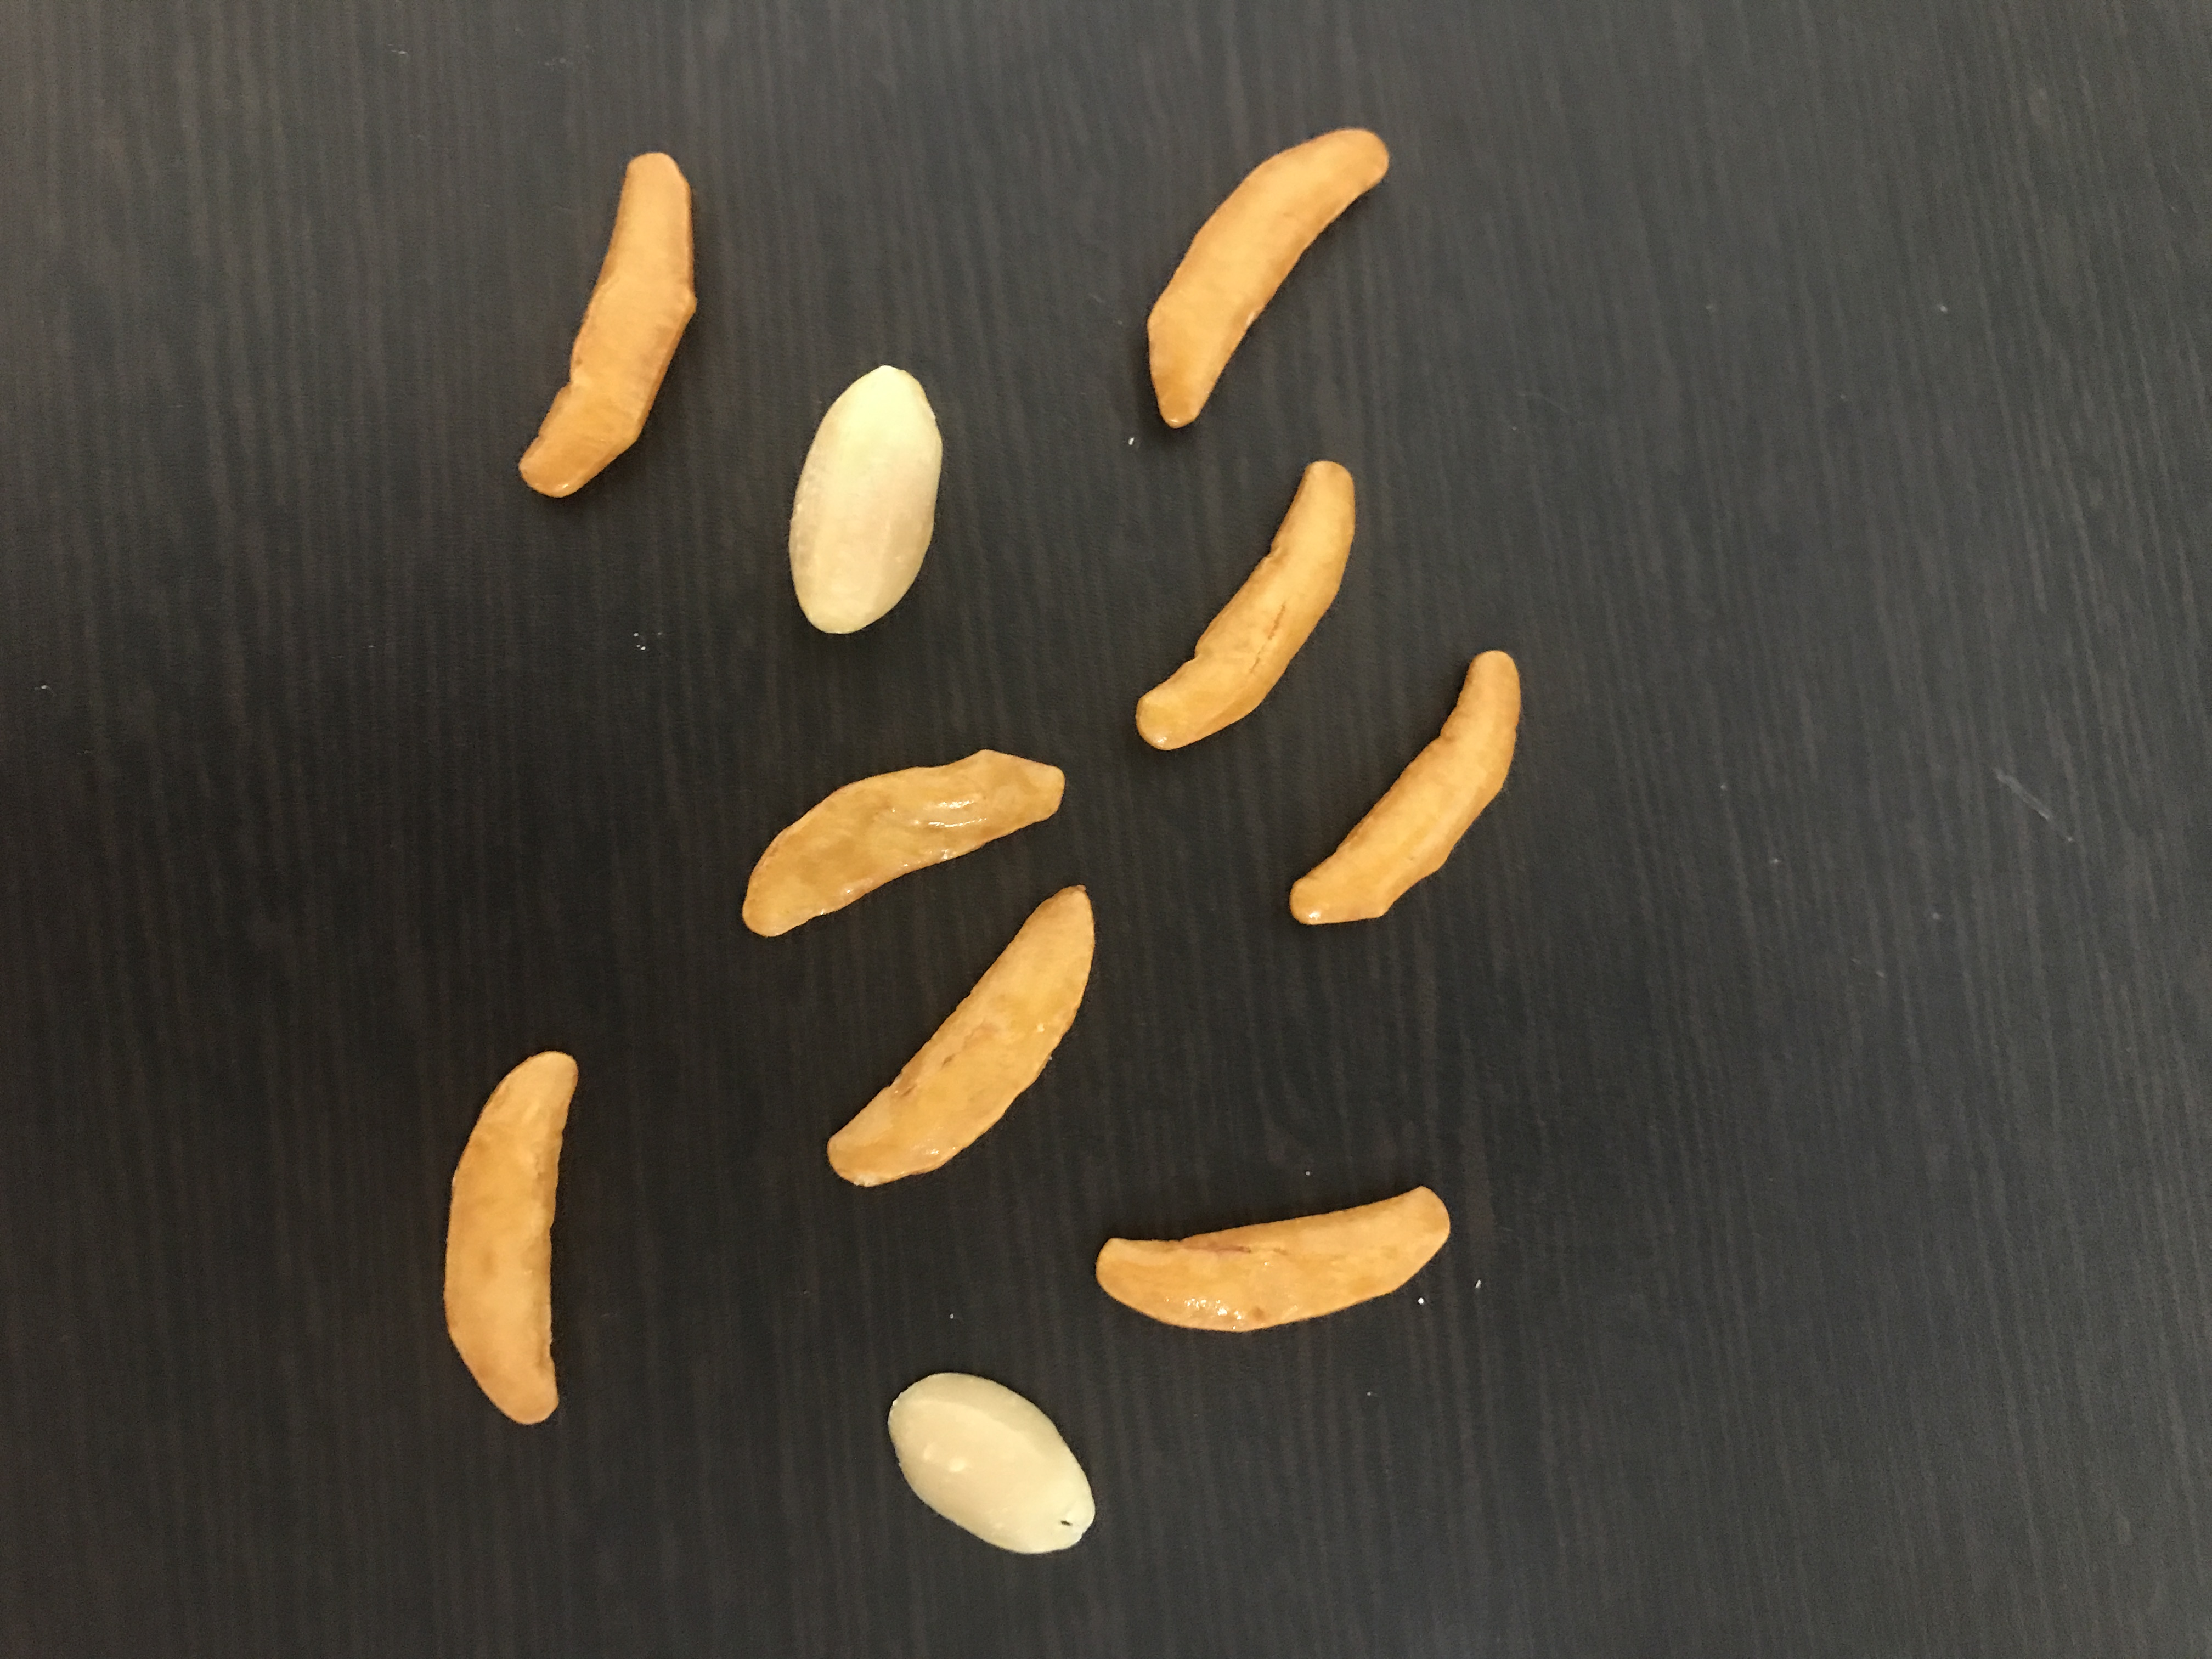peanut: (782, 347, 951, 647), (874, 1363, 1104, 1563)
